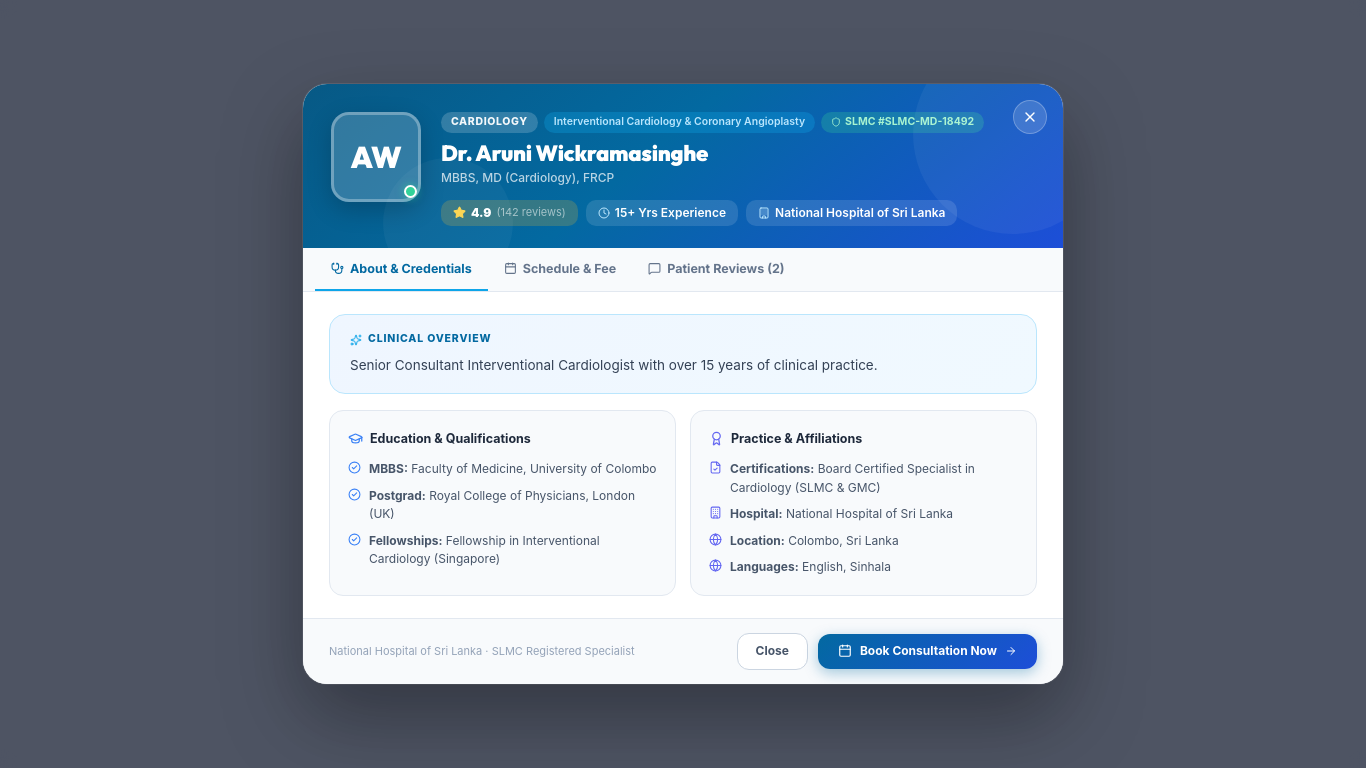
DoctorProfileModal Component › renders all complete doctor credentials, education, and SLMC registration
Expected: the heading "Dr. Aruni Wickramasinghe" is shown, top-left (441, 139), bottom-right (708, 167)
Expected: the text "MBBS, MD (Cardiology), FRCP" is shown, top-left (441, 170), bottom-right (614, 185)
// Schedule & Fee tab
Click the button "Schedule & Fee": (560, 270) top-left (488, 248), bottom-right (632, 292)
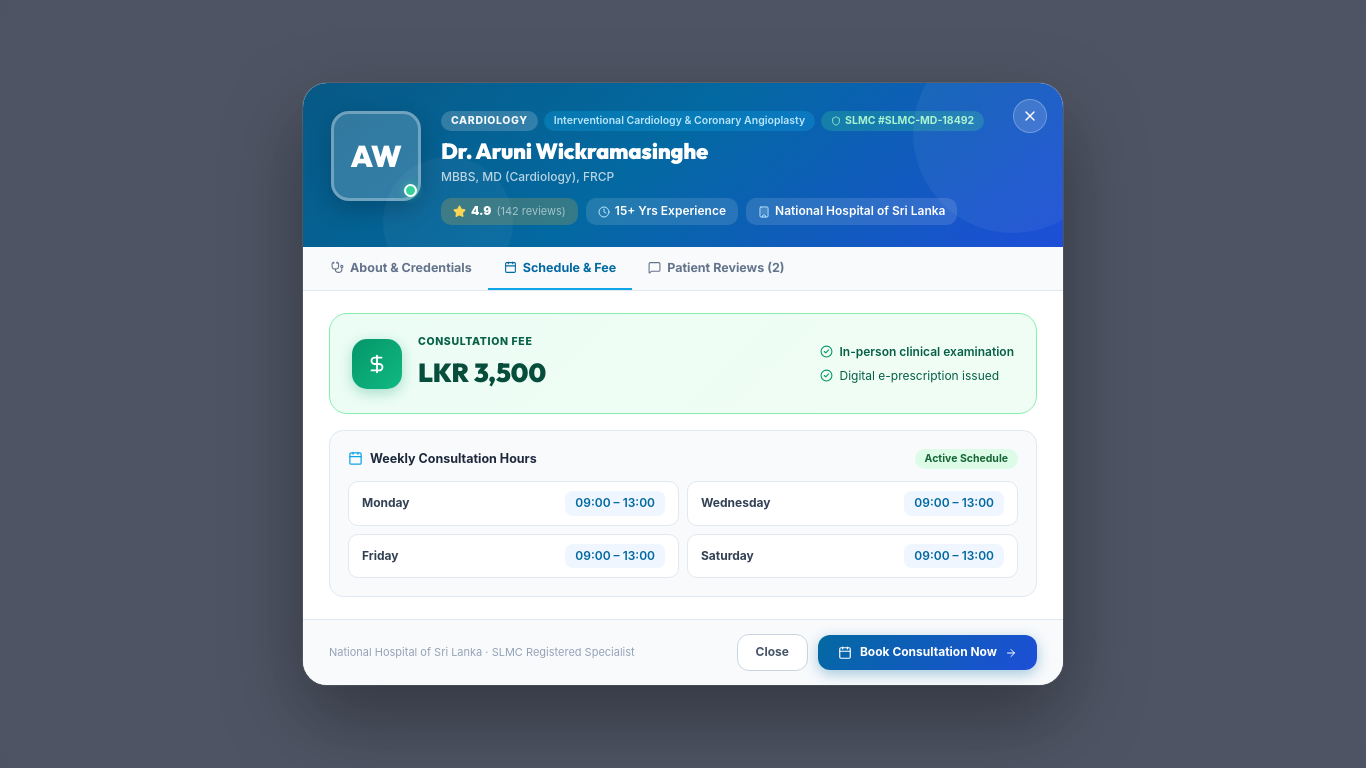
Expected: the text "LKR 3,500" is shown, top-left (418, 352), bottom-right (546, 393)
// Patient Reviews tab
Click the button "Patient Reviews (2)": (716, 269) top-left (632, 247), bottom-right (800, 290)
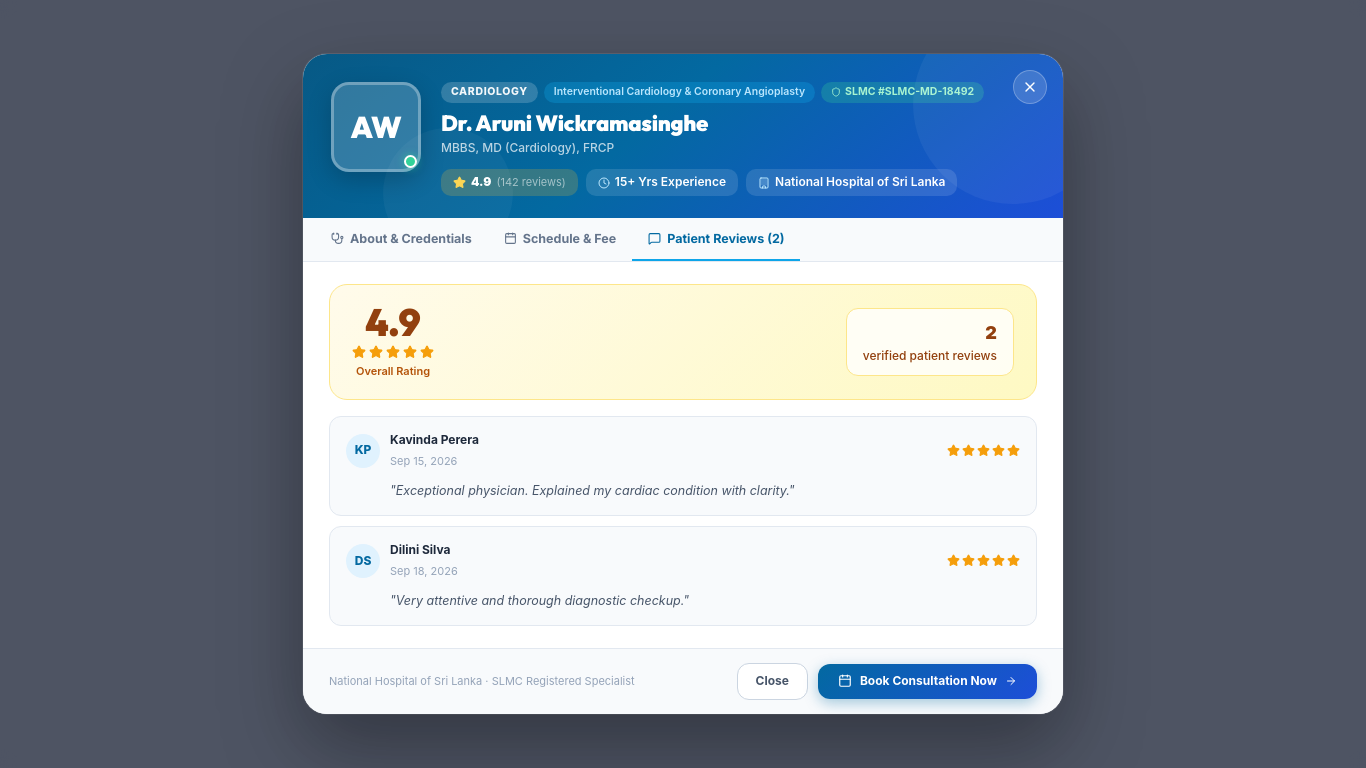
Expected: the text "Kavinda Perera" is shown, top-left (390, 430), bottom-right (479, 449)
Expected: the text "\"Exceptional physician. Explained my cardiac condition with clarity.\"" is shown, top-left (390, 483), bottom-right (795, 498)
Expected: the text "Dilini Silva" is shown, top-left (390, 541), bottom-right (458, 559)
